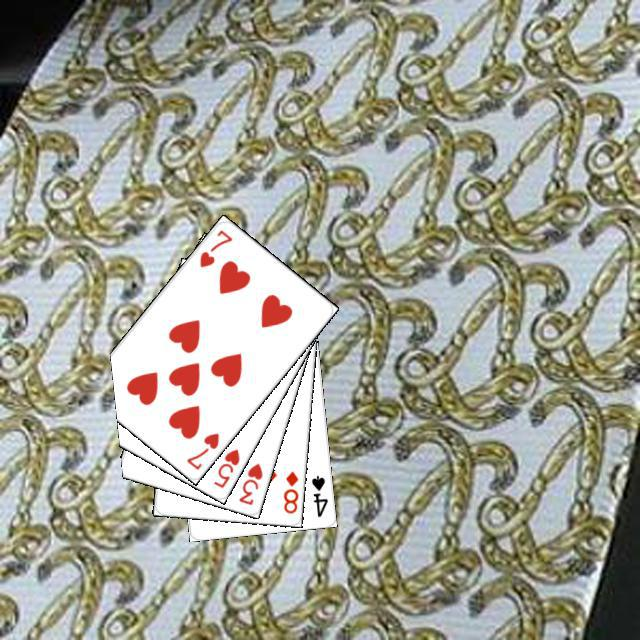3h: (234, 458, 264, 507)
4s: (306, 470, 330, 518)
5h: (209, 443, 241, 490)
7h: (194, 224, 234, 269), (181, 428, 221, 472)
8d: (278, 466, 300, 515)
